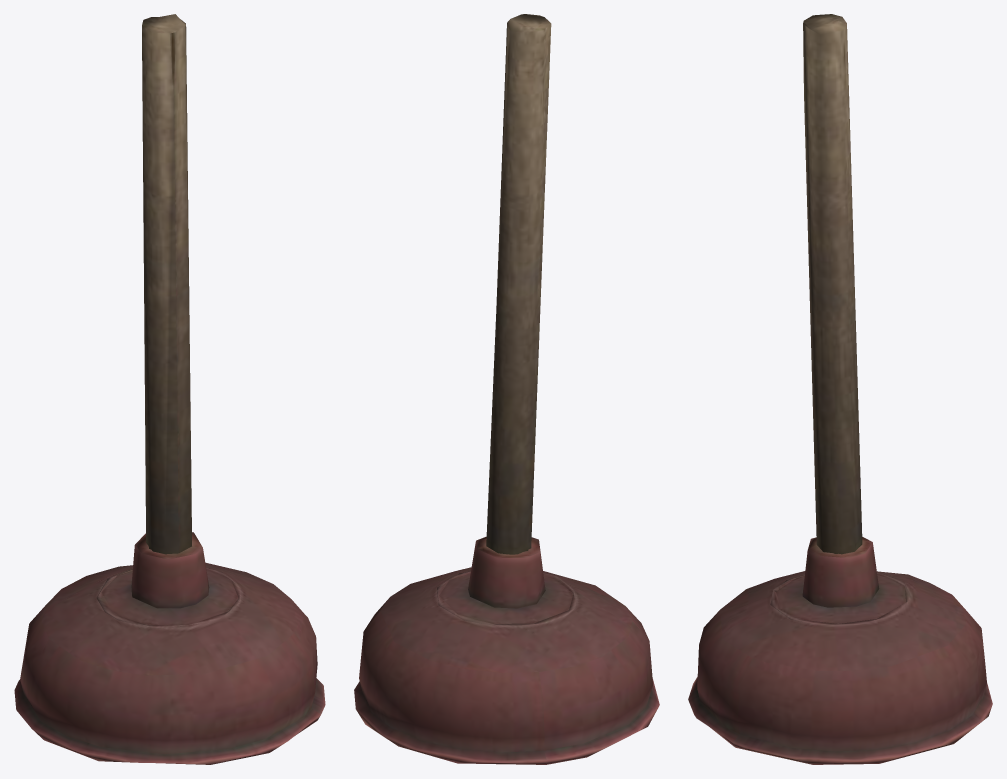
File: plunger.glb
The picture shows the model from 3 angles, left to right: view 1: azimuth 30°, elevation 25°; view 2: azimuth 150°, elevation 25°; view 3: azimuth 270°, elevation 25°; orthographic projection. The views are drawn at different scales.
Parts seen in each view (by area): view 1: plunger; view 2: plunger; view 3: plunger.
Boxes of the visible parts, left/top/right/bottom form: plunger: left=14, top=14, right=325, bottom=764; plunger: left=354, top=14, right=659, bottom=764; plunger: left=688, top=14, right=992, bottom=764.
Bounding box in the file's own units: 0.1716 × 0.4206 × 0.1716.
1 material, 1 textured.
